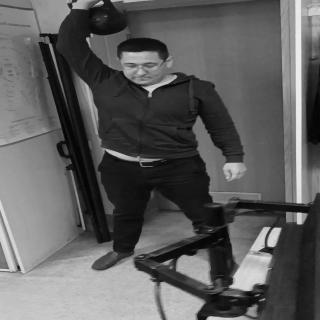kettlebell: (70, 1, 131, 38)
